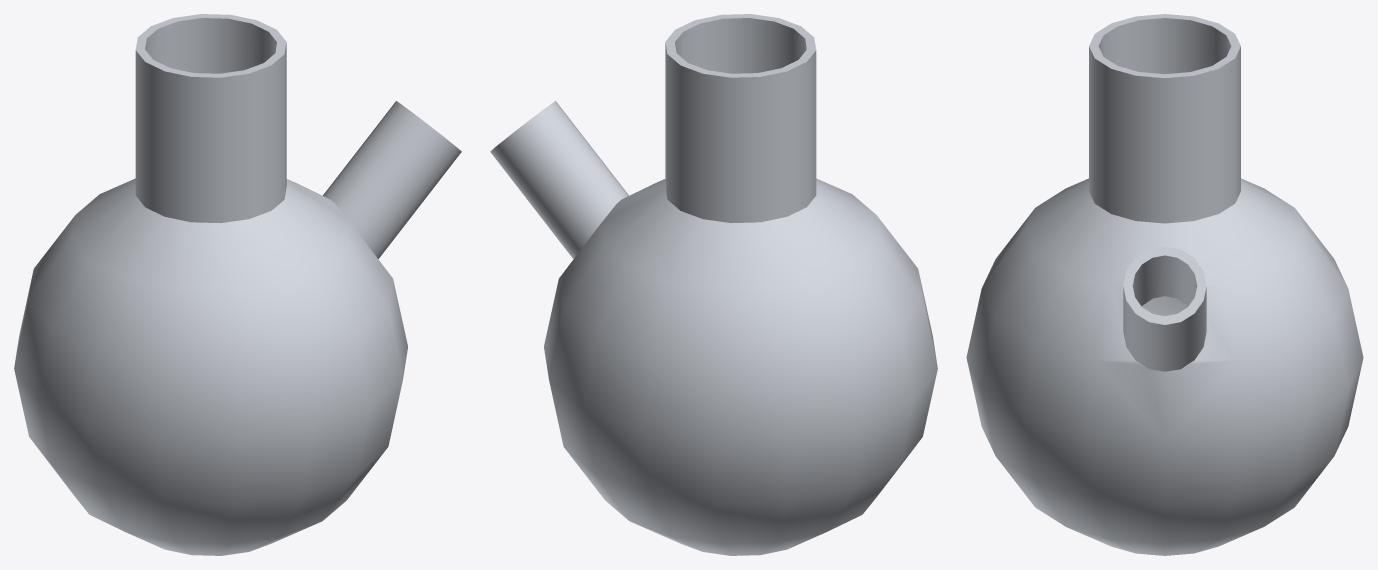
File: bottle_glassware_schlenk_flask_large_.glb
3 views of the same model, side by side, from view 1: azimuth 30°, elevation 25°; view 2: azimuth 150°, elevation 25°; view 3: azimuth 270°, elevation 25° (orthographic).
Visible parts, largest first — view 1: bottle_glassware_schlenk_flask_large; view 2: bottle_glassware_schlenk_flask_large; view 3: bottle_glassware_schlenk_flask_large.
Part boxes in pixels (x1=…): bottle_glassware_schlenk_flask_large: x1=14, y1=14, x2=461, y2=555; bottle_glassware_schlenk_flask_large: x1=490, y1=14, x2=937, y2=555; bottle_glassware_schlenk_flask_large: x1=966, y1=14, x2=1363, y2=555.
Size of the model in its own units: 20.26 by 22.91 by 16.78.
1 material, 1 textured.
